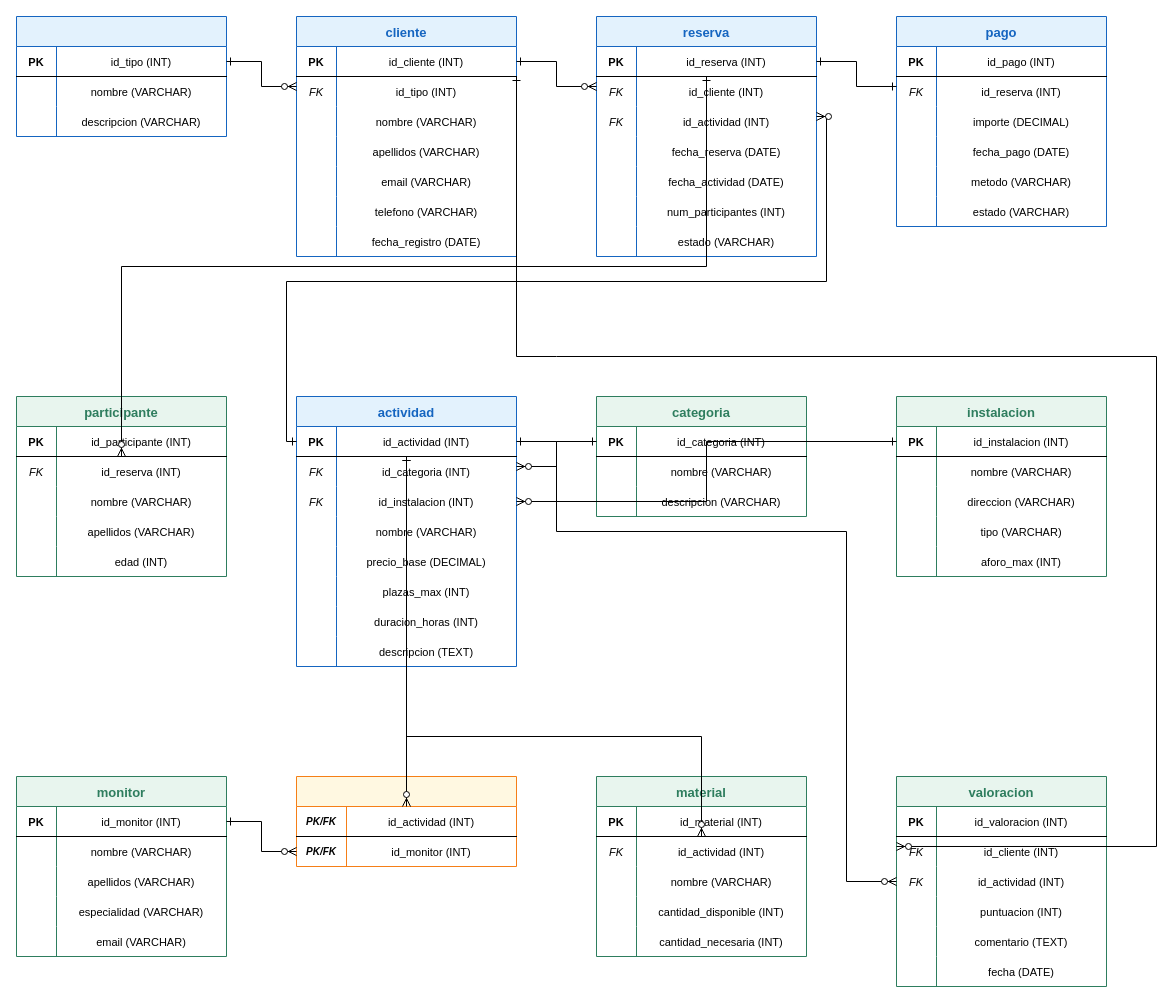
Image size: 1173x1003. Some labels were removed from this diagram. Here are the shapes that lost their labels. From the top down, the box of each, then its label:
(16, 16, 226, 136): tipo_cliente
(296, 776, 516, 866): actividad_monitor
